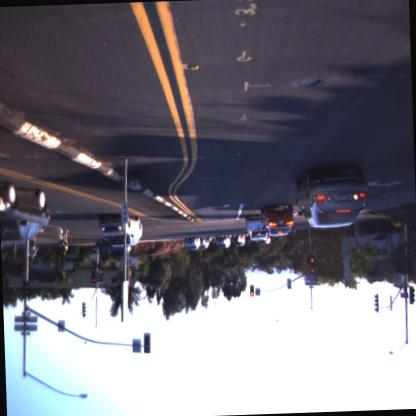trafficlight: (249, 284, 254, 298), (310, 254, 314, 266)
